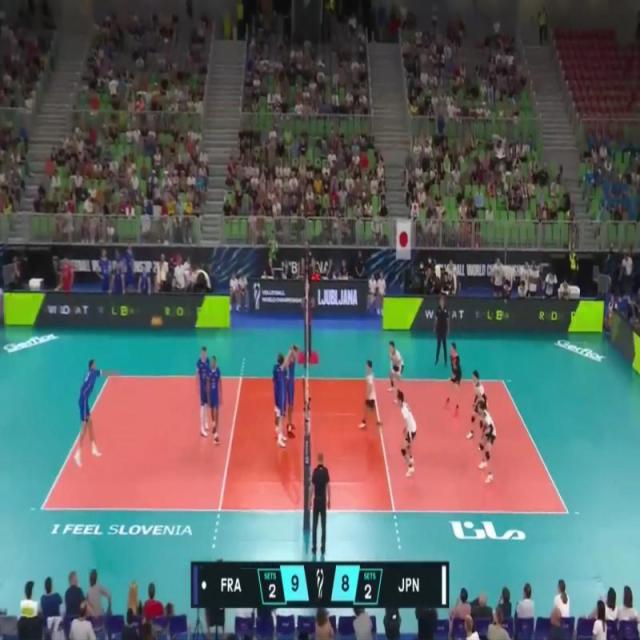volleyball: (154, 314, 160, 328)
